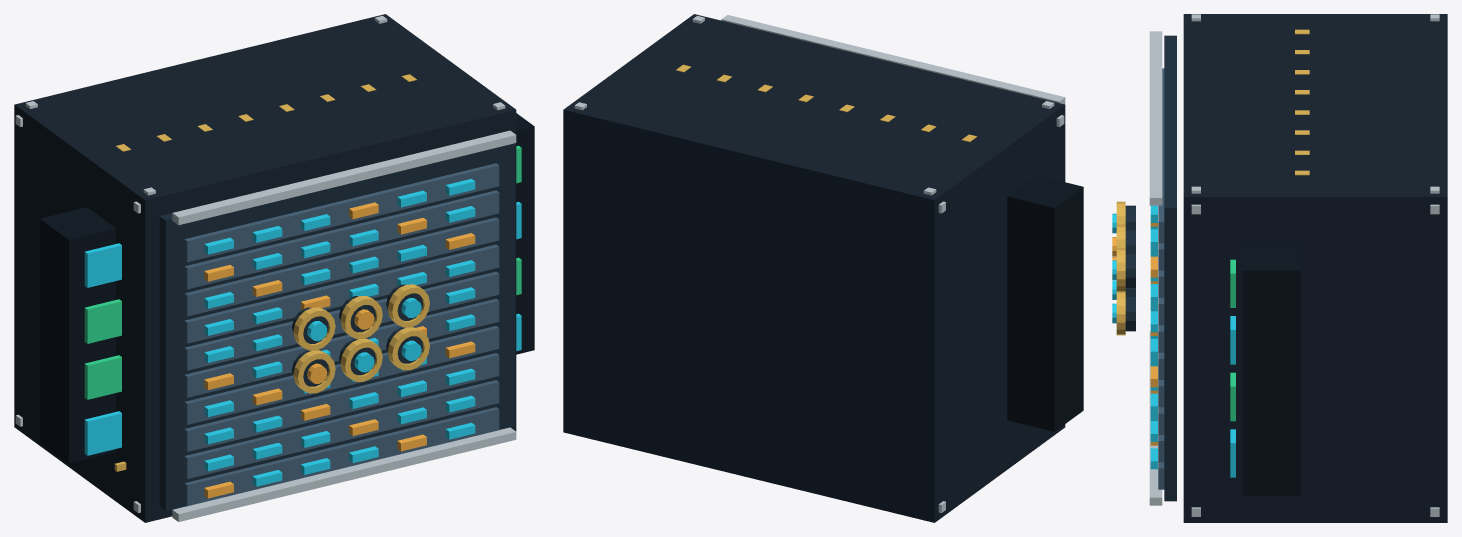
The model's file is 46_L81_PacketRetransmissionBuffer.fbx.
3 renders of one model, left to right at view 1: azimuth 30°, elevation 25°; view 2: azimuth 150°, elevation 25°; view 3: azimuth 270°, elevation 25°, orthographic.
Parts seen in each view (by area): view 1: PacketRetransmissionBuffer, PacketRetransmissionBuffer_Part_0090, PacketRetransmissionBuffer_Part_0099, PacketRetransmissionBuffer_Part_0091, PacketRetransmissionBuffer_Part_0107, PacketRetransmissionBuffer_Part_0115; view 2: PacketRetransmissionBuffer, PacketRetransmissionBuffer_Part_0090; view 3: PacketRetransmissionBuffer, PacketRetransmissionBuffer_Part_0090.
Part boxes in pixels (x1,y1,x2,y2): PacketRetransmissionBuffer: (14, 14, 516, 522); PacketRetransmissionBuffer_Part_0090: (40, 113, 534, 463); PacketRetransmissionBuffer_Part_0099: (84, 355, 121, 399); PacketRetransmissionBuffer_Part_0091: (84, 411, 121, 455); PacketRetransmissionBuffer_Part_0107: (84, 299, 121, 343); PacketRetransmissionBuffer_Part_0115: (84, 243, 121, 287); PacketRetransmissionBuffer: (563, 14, 1065, 522); PacketRetransmissionBuffer_Part_0090: (1007, 175, 1083, 431); PacketRetransmissionBuffer: (1112, 14, 1447, 522); PacketRetransmissionBuffer_Part_0090: (1242, 247, 1300, 496).
Bounding box in the file's own units: 148 × 99.8 × 91.45.
